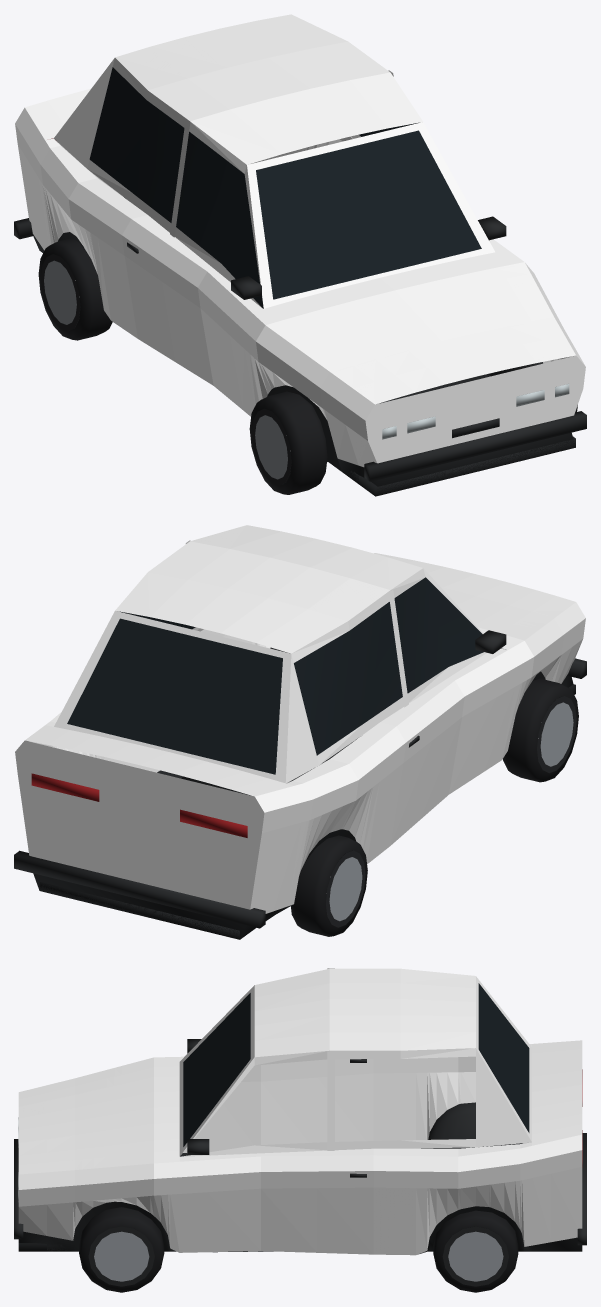
The model's file is dunmere_menta.glb.
3 renders of one model, top to bottom at view 1: azimuth 30°, elevation 25°; view 2: azimuth 150°, elevation 25°; view 3: azimuth 270°, elevation 25°, orthographic. The views are drawn at different scales.
Visible parts, largest first — view 1: Body_Paint, Body_Details, Mount_FrontLeft_Wheel_Details, Mount_RearLeft_Wheel_Details; view 2: Body_Paint, Body_Details, Mount_RearLeft_Wheel_Details, Mount_FrontLeft_Wheel_Details; view 3: Body_Paint, Body_Details, Mount_FrontRight_Wheel_Details, Mount_RearRight_Wheel_Details.
Part boxes in pixels (<box>): Body_Paint: <box>15,14,585,467</box>; Body_Details: <box>14,67,586,496</box>; Mount_FrontLeft_Wheel_Details: <box>249,391,327,494</box>; Mount_RearLeft_Wheel_Details: <box>38,238,112,340</box>; Body_Paint: <box>15,525,585,913</box>; Body_Details: <box>14,577,586,939</box>; Mount_RearLeft_Wheel_Details: <box>290,835,367,936</box>; Mount_FrontLeft_Wheel_Details: <box>503,678,578,782</box>; Body_Paint: <box>18,968,582,1255</box>; Body_Details: <box>14,983,586,1254</box>; Mount_FrontRight_Wheel_Details: <box>79,1207,164,1292</box>; Mount_RearRight_Wheel_Details: <box>433,1210,518,1292</box>.
Size of the model in its own units: 1.65 by 1.49 by 3.37.
Materials: 2 (1 with a texture image).
